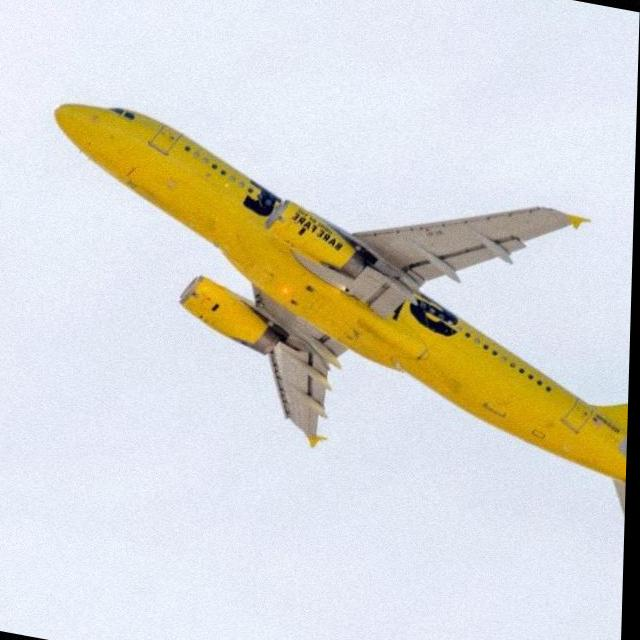airplane: (42, 86, 638, 539)
